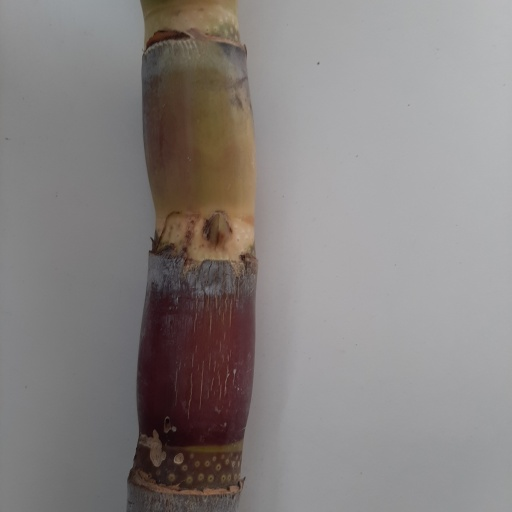Bud: (204, 211, 232, 246)
